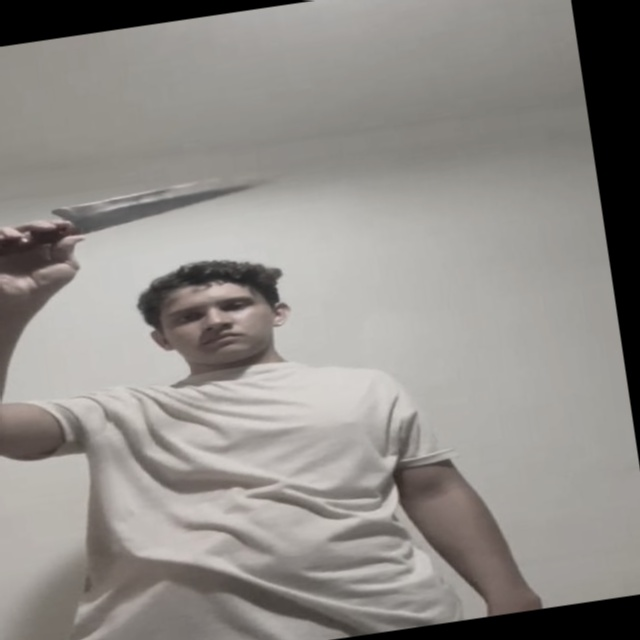Sharp-Object: (58, 169, 281, 235)
